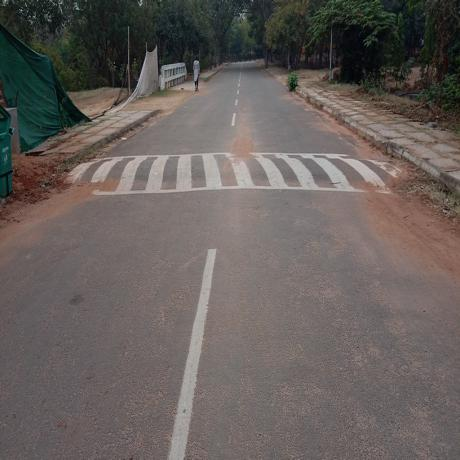Speed Bump: (65, 152, 405, 195)
